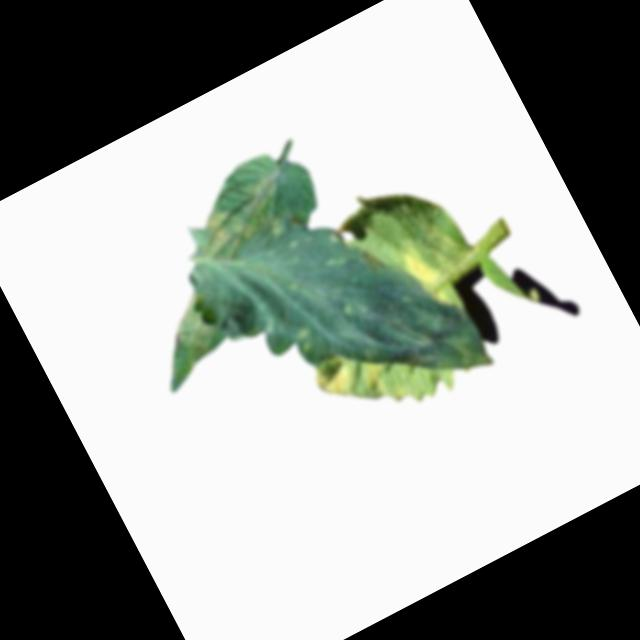Leaf_Mold: (191, 178, 291, 265), (160, 292, 226, 365), (308, 349, 366, 411), (393, 234, 448, 299)
